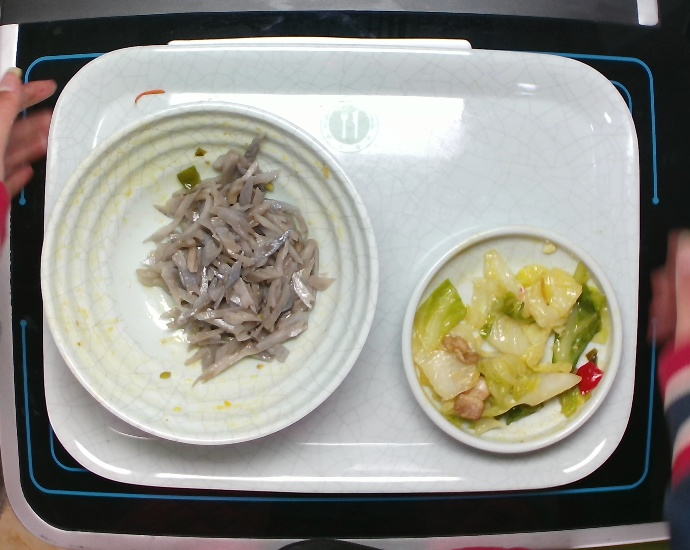JYsf-Da_Tang_Wan: (30, 95, 389, 451)
JYsf-Xiao_Yuan_Pan: (397, 221, 630, 466)
